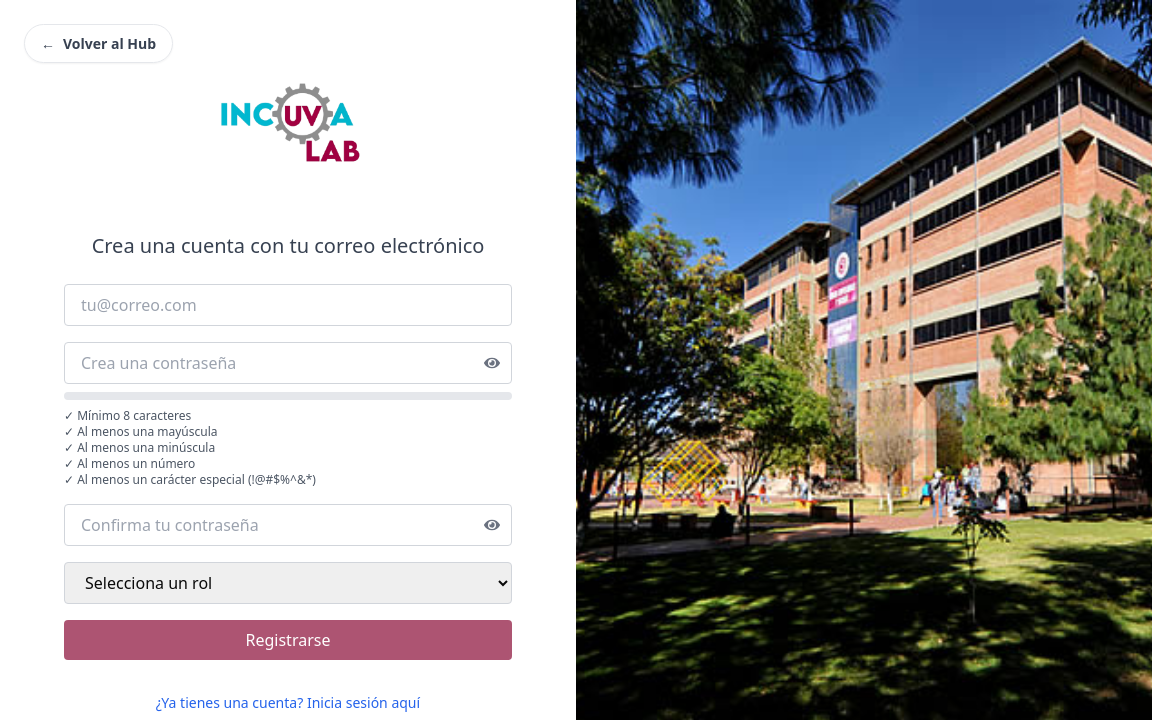
RegisterForm › muestra los requisitos faltantes cuando la contraseña es débil
Type "abc" into the password field with placeholder "Crea una contraseña". click: point(288, 363)
box: [64,342,512,384]
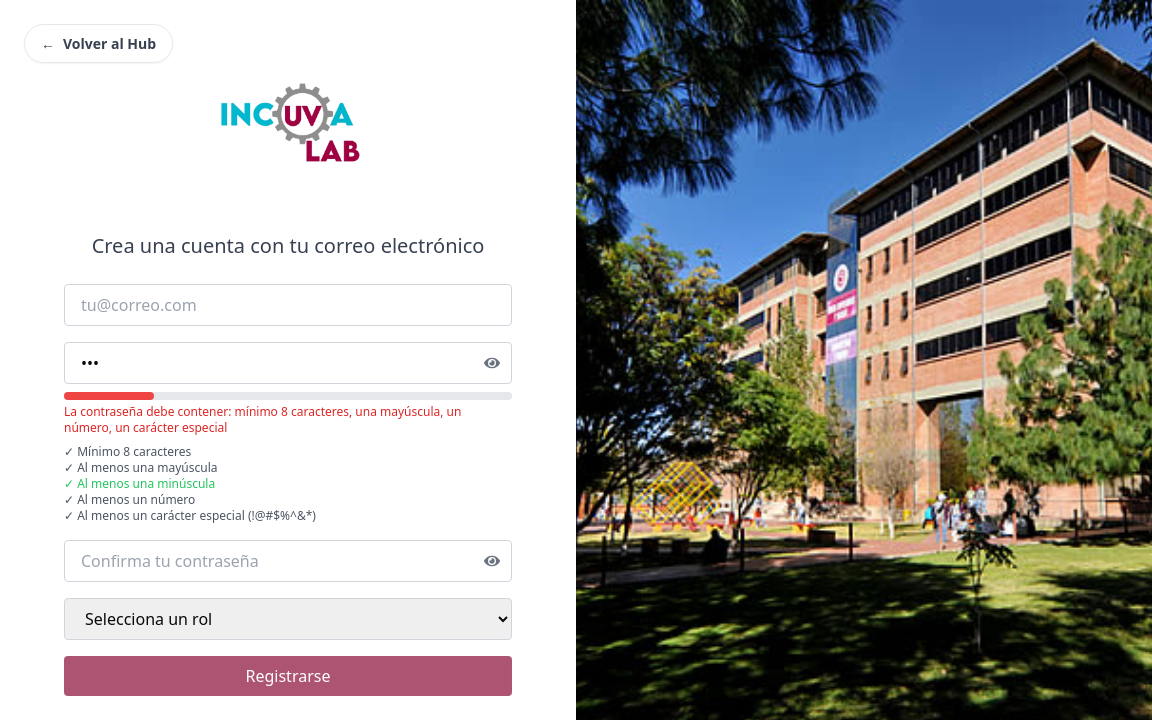
Expected: the text "La contraseña debe contener" is shown, [64,403,462,436]
